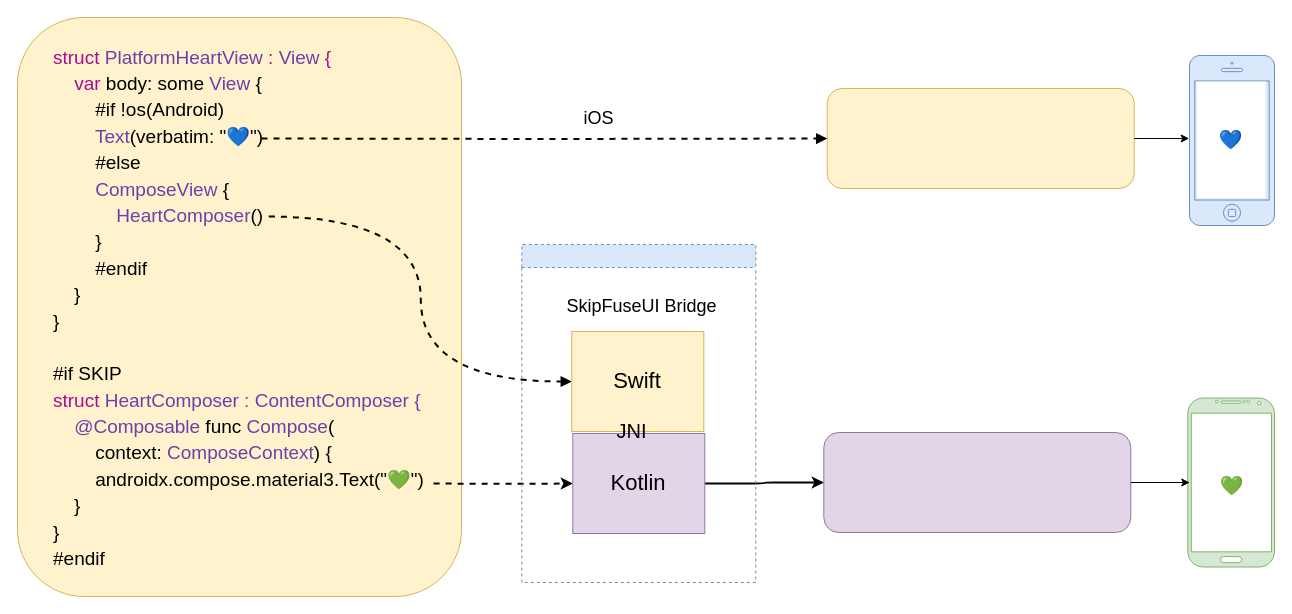
Image size: 1292x614. Some labels were removed from this diagram. The box of each missing label's shape, as (x1, y1, x2, y2) in pixels:
androidx.compose.material3. Text(text = " 💚 "): (823, 432, 1131, 532)
Skip Generated: (521, 244, 756, 582)
SwiftUI.framework Text(" 💙 "): (826, 88, 1134, 188)
